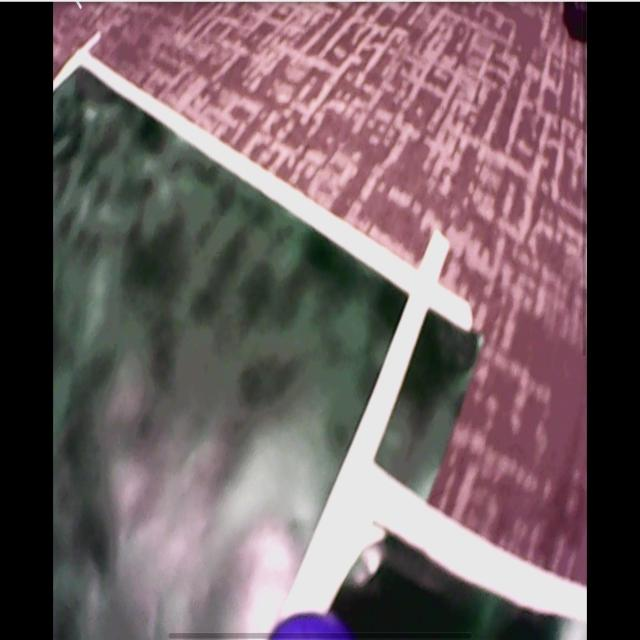ball: (269, 613, 349, 640)
